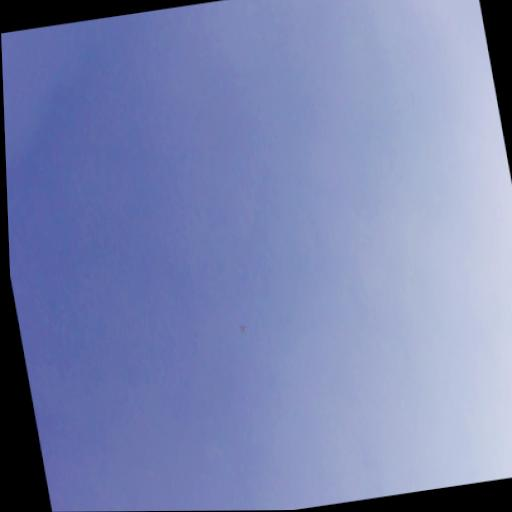drones: (239, 323, 250, 338)
